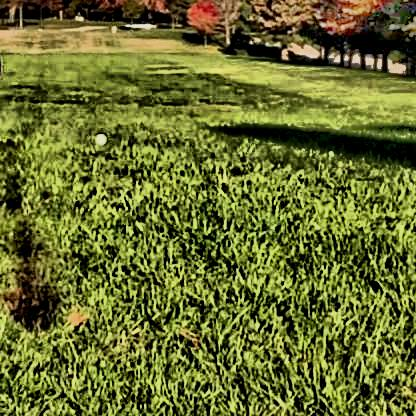golfball: (91, 130, 106, 144)
